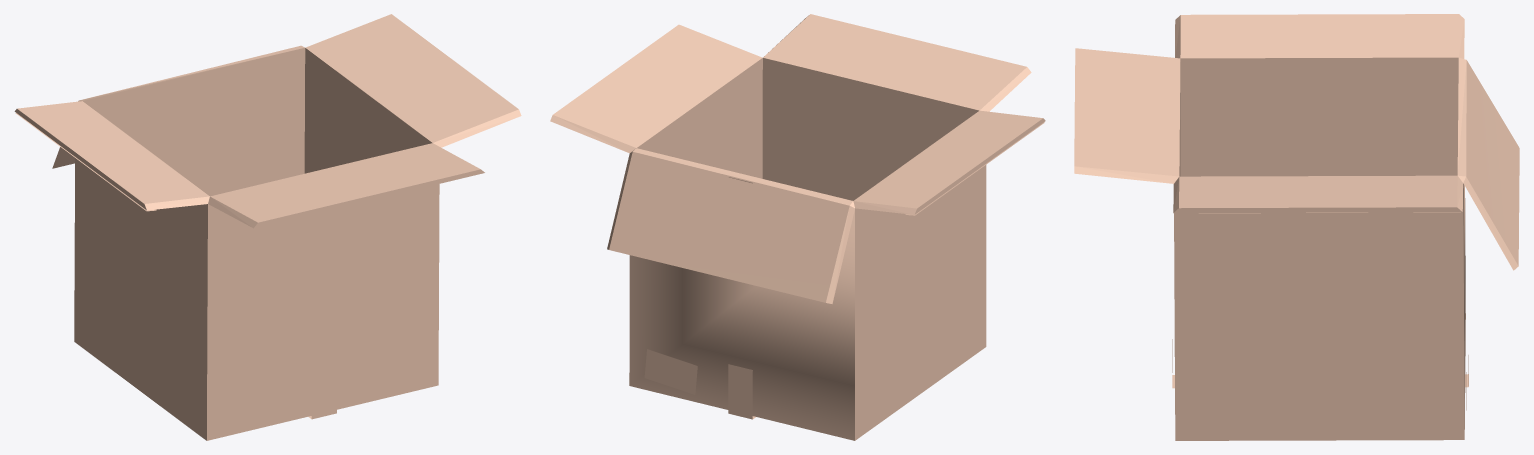
File: poubelle sktech 2.fbx
3 views of the same model, side by side, from view 1: azimuth 30°, elevation 25°; view 2: azimuth 150°, elevation 25°; view 3: azimuth 270°, elevation 25° (orthographic). The views are drawn at different scales.
Visible parts, largest first — view 1: Deco_Box00_001; view 2: Deco_Box00_001; view 3: Deco_Box00_001.
Part boxes in pixels (left/top/right/bottom): Deco_Box00_001: left=14, top=14, right=521, bottom=440; Deco_Box00_001: left=550, top=14, right=1045, bottom=440; Deco_Box00_001: left=1074, top=14, right=1519, bottom=440.
Size of the model in its own units: 7501 by 4933 by 7126.
